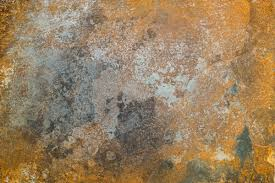rust: (1, 1, 275, 182)
